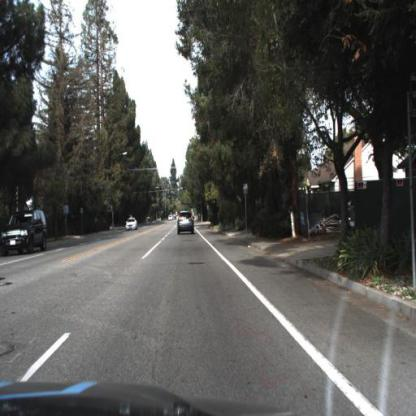car: (1, 208, 50, 258), (175, 208, 196, 241), (123, 215, 140, 236), (127, 217, 140, 234)
